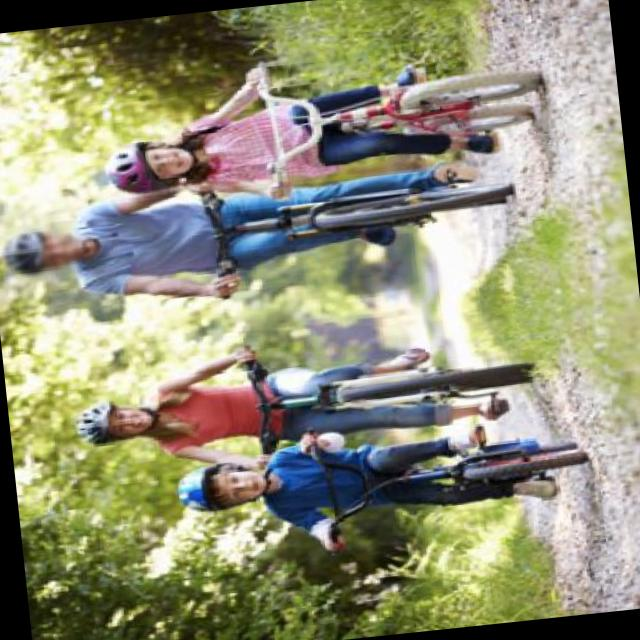With Helmet: (96, 134, 197, 198), (0, 219, 85, 286), (173, 456, 266, 517), (70, 393, 158, 449)
